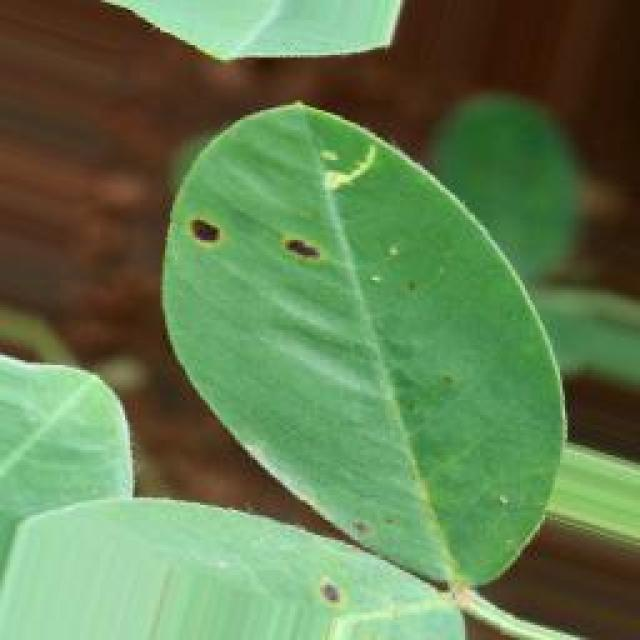Sigatoka: (278, 219, 354, 303), (296, 567, 372, 640), (177, 194, 231, 264)
